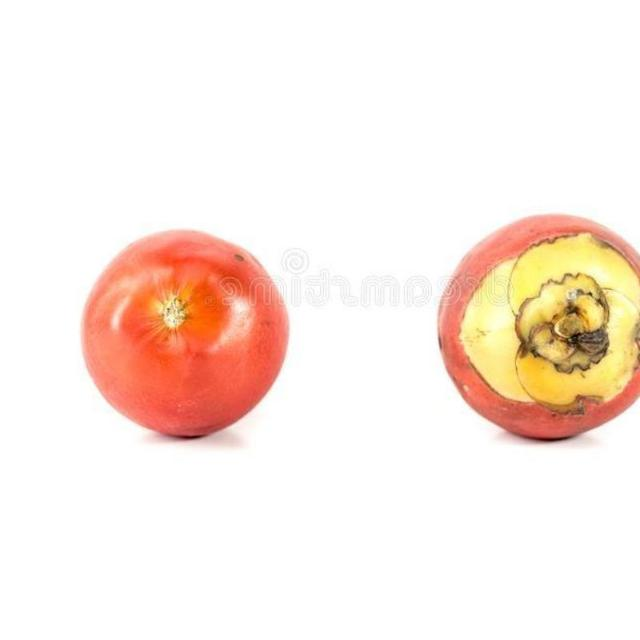good: (437, 216, 639, 443), (79, 229, 293, 441)
